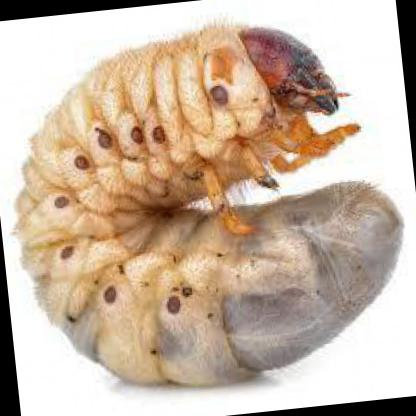root grubs: (13, 23, 402, 390)
